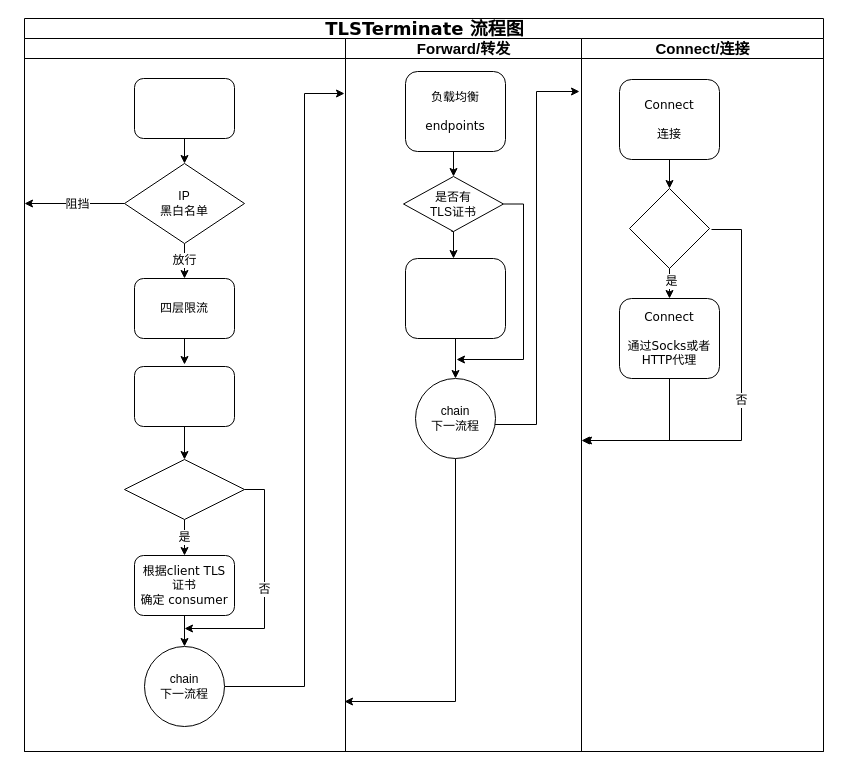
Image size: 841x769. Some labels were removed from this diagram. The shapes that lost their labels are listed below. From the top down, each one's box as (x1, y1, x2, y2) in pixels, then its label:
(134, 78, 234, 138): Accept TCP connections
(628, 188, 710, 268): 是否 代理
(404, 258, 506, 338): TLS cert 选择使用 上游证书
(134, 366, 234, 426): sni 证书选择
(24, 38, 346, 752): Listener/监听
(124, 458, 244, 520): 是否 mTLS
